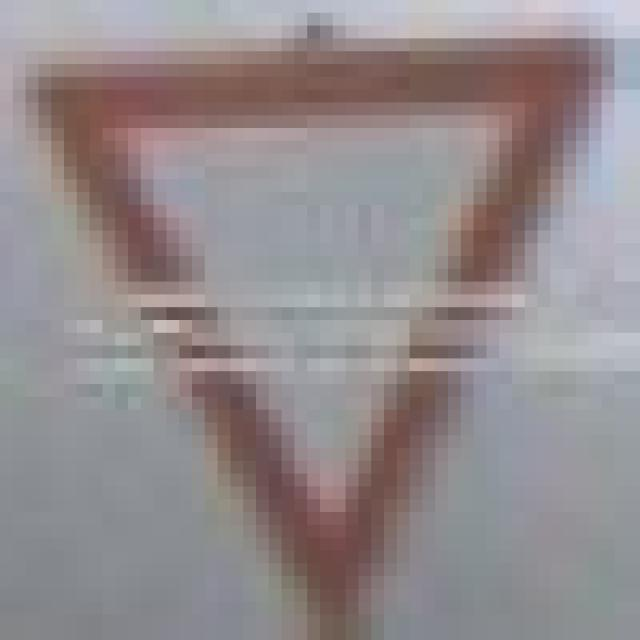GIVE_WAY: (0, 38, 627, 628)
